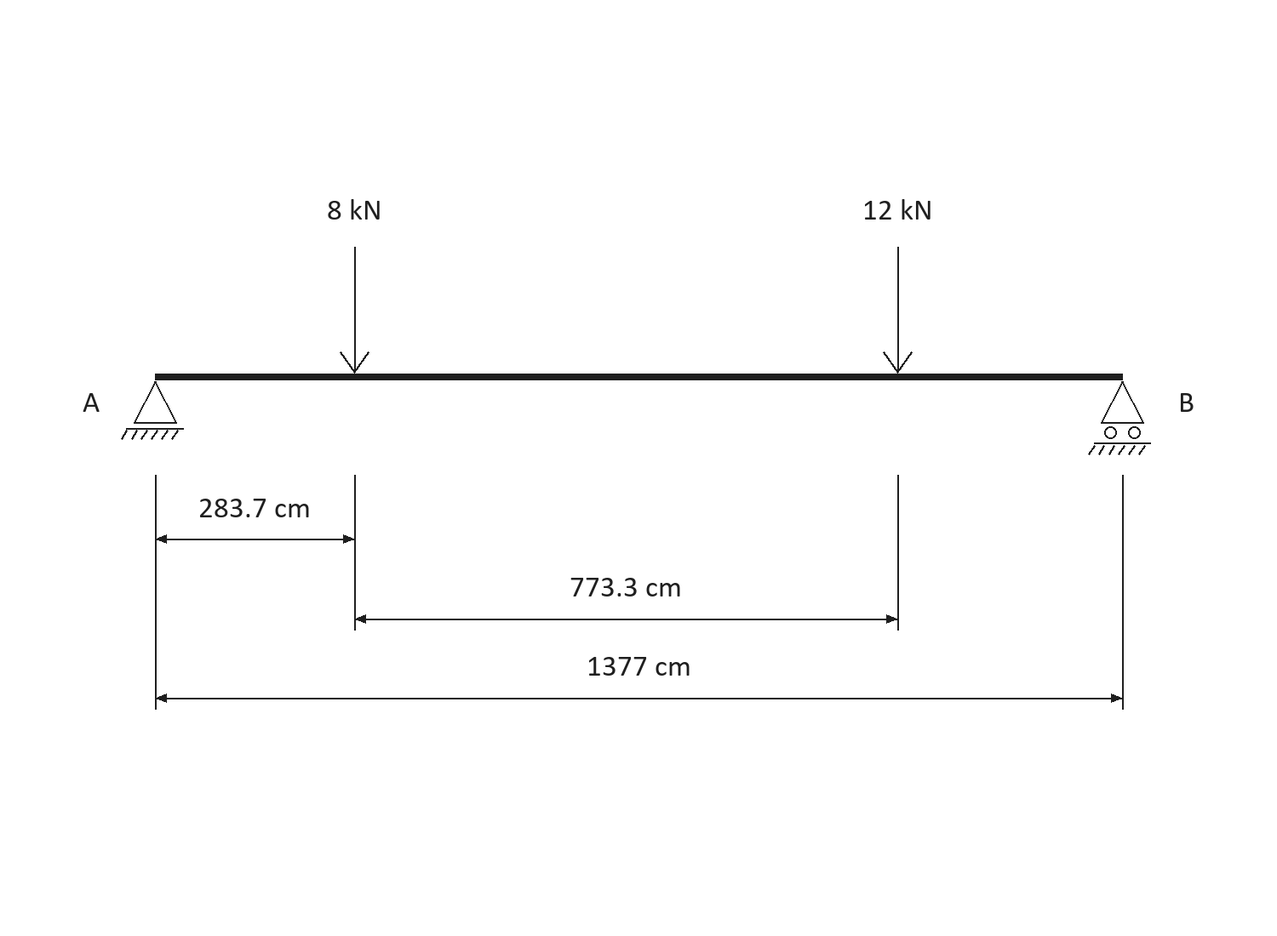pin_support: (121, 381, 184, 440)
point_load: (883, 247, 913, 374), (340, 247, 369, 374)
roller_support: (1088, 381, 1151, 455)
